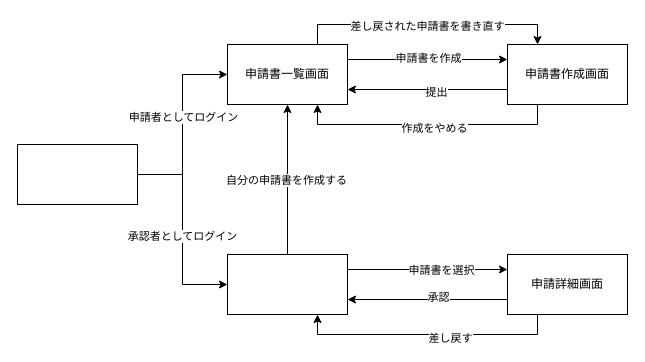
Image size: 645x362. Some labels were removed from this diagram. The shapes that lost their labels are listed below. From the top down, each one's box as (x1, y1, x2, y2) in pixels, then its label:
(16, 144, 138, 204): ログイン画面
(226, 254, 348, 314): 承認待ち画面
